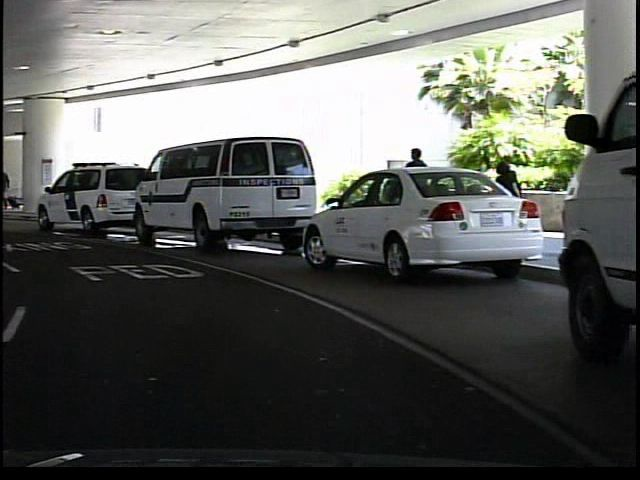person: (488, 155, 525, 245), (399, 143, 433, 240)
